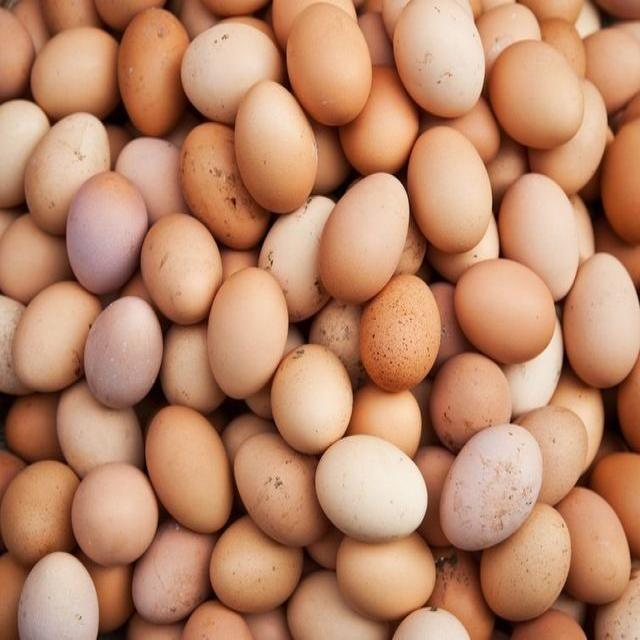Egg: (0, 0, 640, 639)
